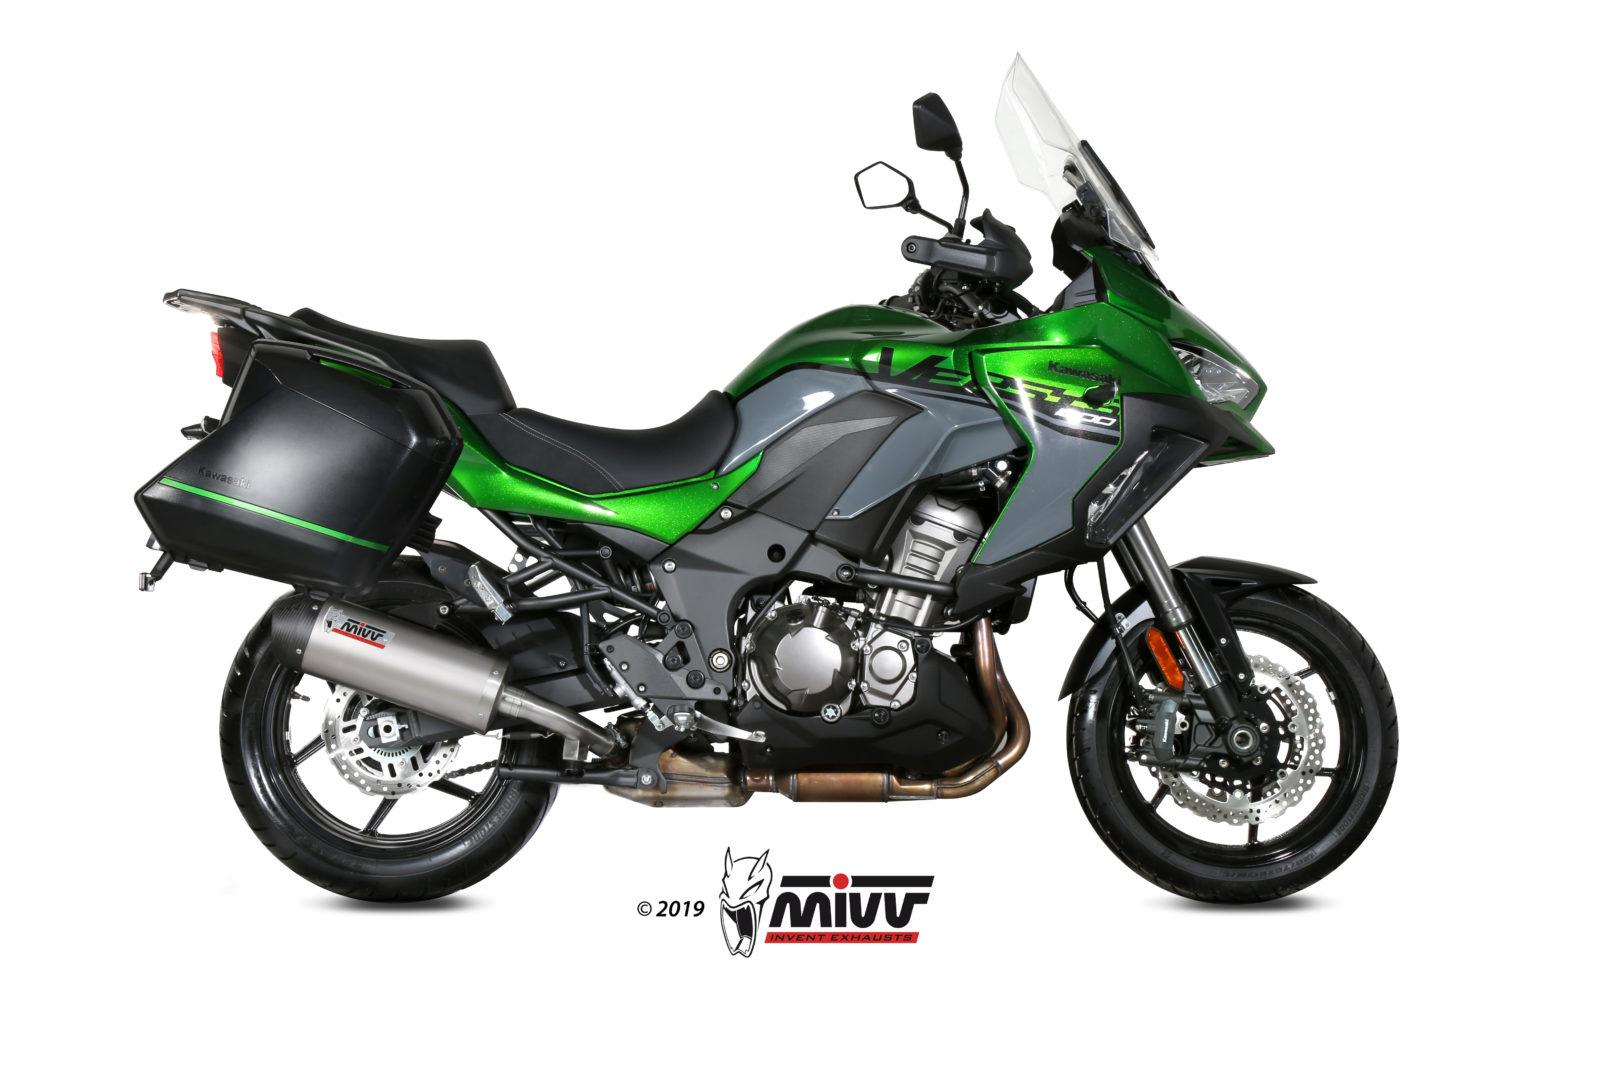engine-chasis: (494, 447, 1027, 794), (614, 560, 665, 600)
exhaust: (600, 611, 1031, 809), (270, 589, 645, 768)
frontside: (724, 51, 1318, 772)
handlebar: (854, 92, 1129, 330)
motorbike: (135, 56, 1400, 904)
rearside: (133, 287, 764, 713), (360, 711, 476, 749)
seat: (288, 306, 736, 493)
tank: (713, 304, 954, 479)
watermark: (632, 846, 940, 960)
wheel: (219, 588, 563, 904), (1065, 584, 1399, 905), (1096, 556, 1144, 709), (1063, 566, 1098, 624), (442, 759, 496, 780)
